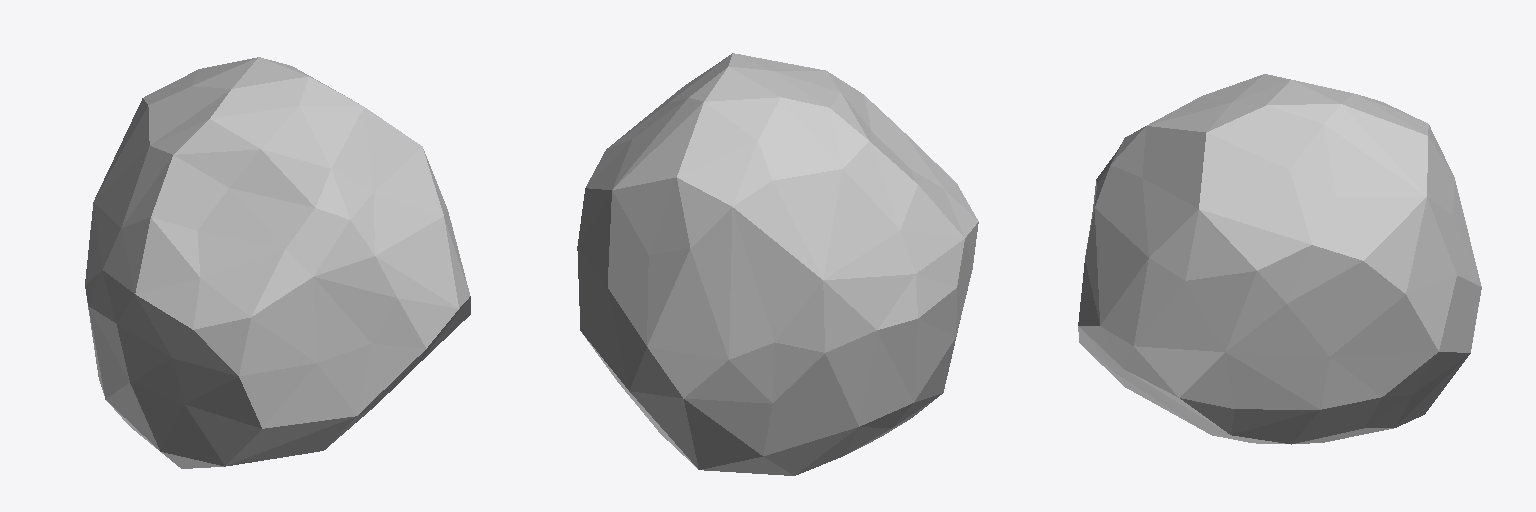
Rendered from rock.obj.
3 views of the same model, side by side, from view 1: azimuth 30°, elevation 25°; view 2: azimuth 150°, elevation 25°; view 3: azimuth 270°, elevation 25° (orthographic).
Visible parts, largest first — view 1: rock_01; view 2: rock_01; view 3: rock_01.
Boxes of the visible parts, x1=… form: rock_01: x1=85, y1=57, x2=470, y2=468; rock_01: x1=577, y1=53, x2=978, y2=475; rock_01: x1=1078, y1=74, x2=1481, y2=444.
Bounding box in the file's own units: 141 × 142 × 150.